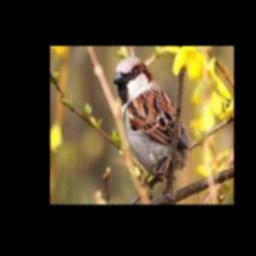Sparrow: (112, 56, 189, 187)
